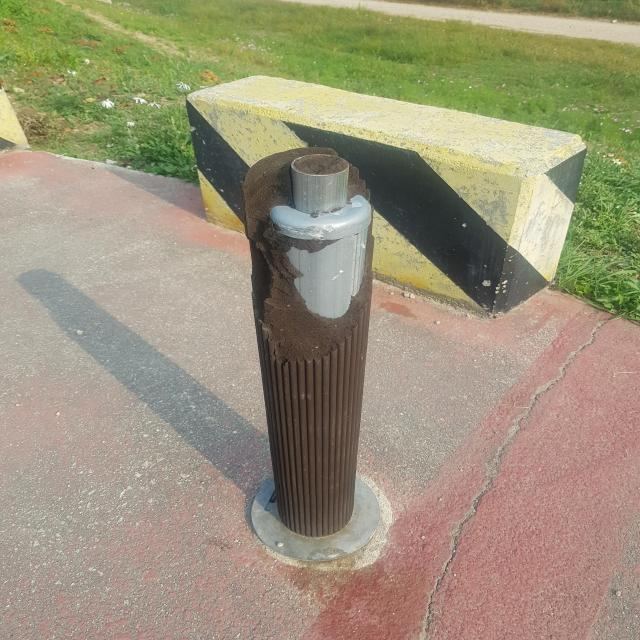pole: (240, 146, 375, 564)
